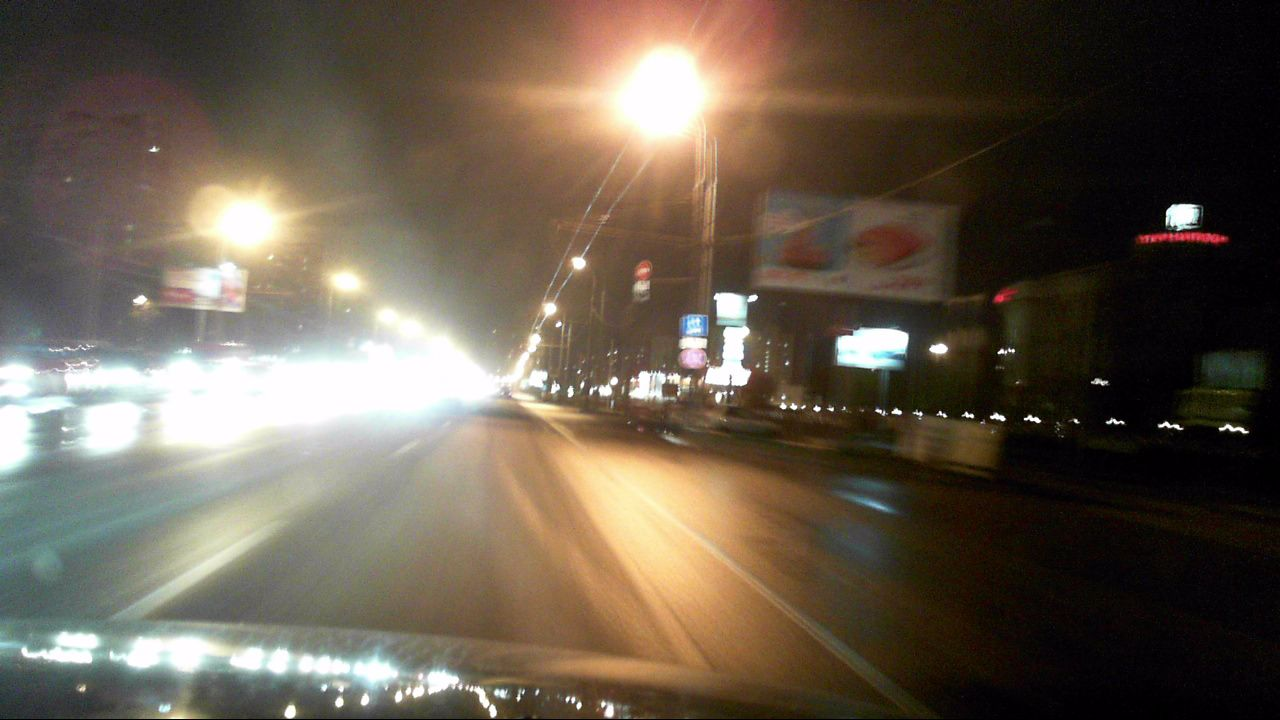No Parking: (685, 349, 707, 369)
